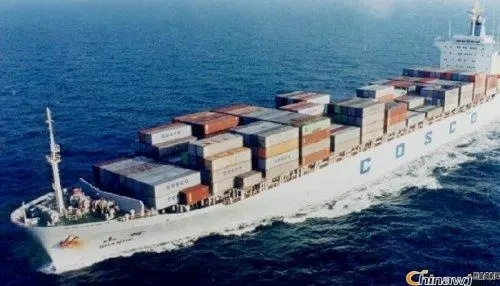Cargoship: (11, 1, 500, 268)
